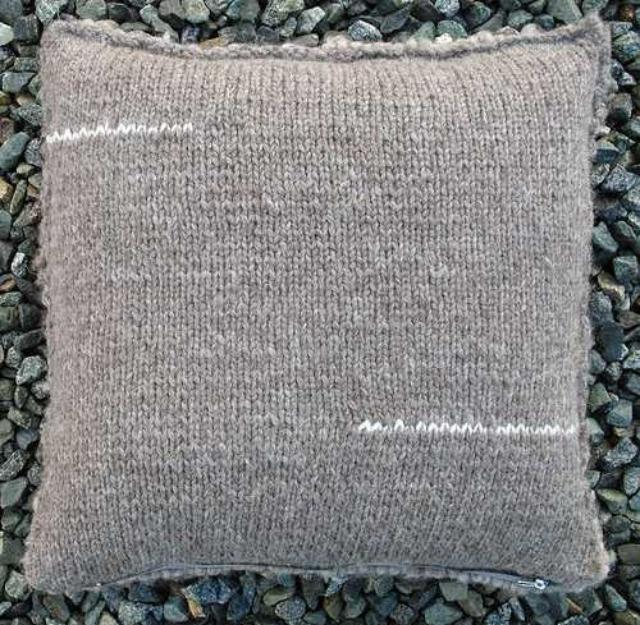pillow: (21, 10, 613, 596)
